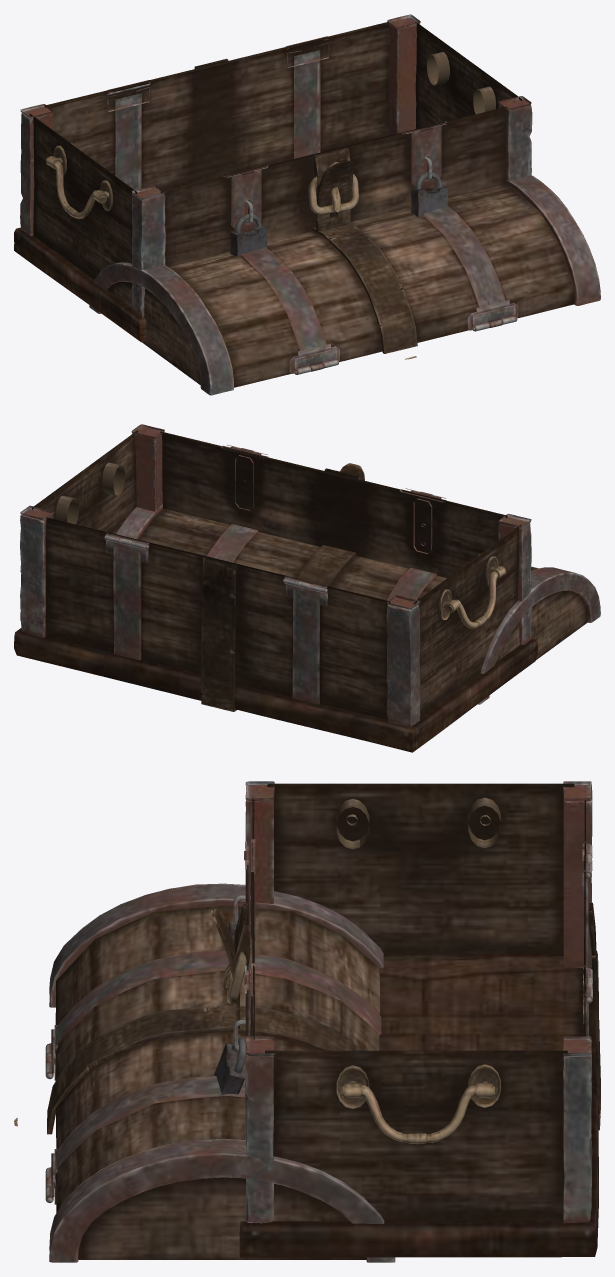
The model's file is chest_hd.glb.
3 views of the same model, one above another, from view 1: azimuth 30°, elevation 25°; view 2: azimuth 150°, elevation 25°; view 3: azimuth 270°, elevation 25° (orthographic). The views are drawn at different scales.
Visible parts, largest first — view 1: CH_base, CH_lid; view 2: CH_base, CH_lid; view 3: CH_base, CH_lid.
Boxes of the visible parts, x1=… form: CH_base: x1=14, y1=14, x2=532, y2=342; CH_lid: x1=89, y1=175, x2=600, y2=395; CH_base: x1=14, y1=424, x2=537, y2=752; CH_lid: x1=116, y1=504, x2=600, y2=704; CH_base: x1=211, y1=781, x2=600, y2=1257; CH_lid: x1=14, y1=883, x2=395, y2=1262.
Bounding box in the file's own units: 34 × 11.53 × 29.31.
1 material, 1 textured.
